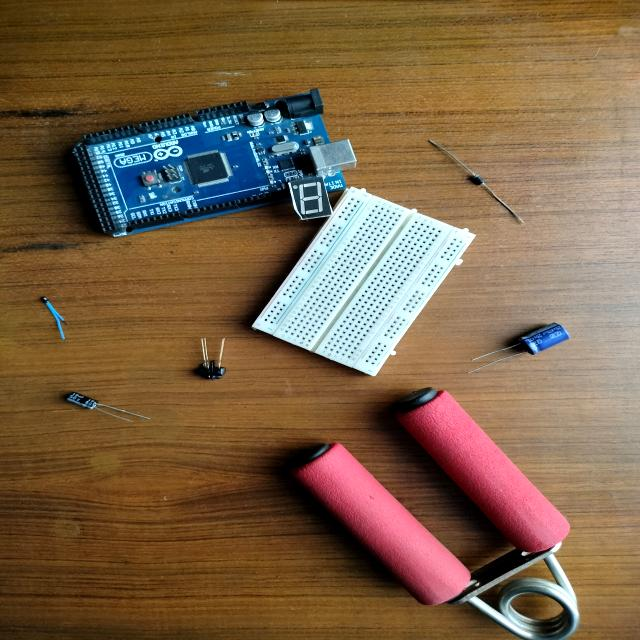capacitor: (505, 323, 567, 355), (69, 394, 96, 409)
